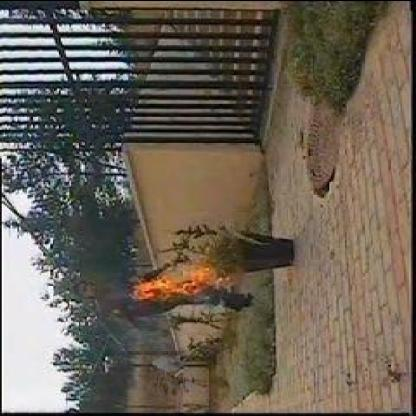foggia-v2-map80-epoch100 - v1 4323: (128, 258, 210, 300)
